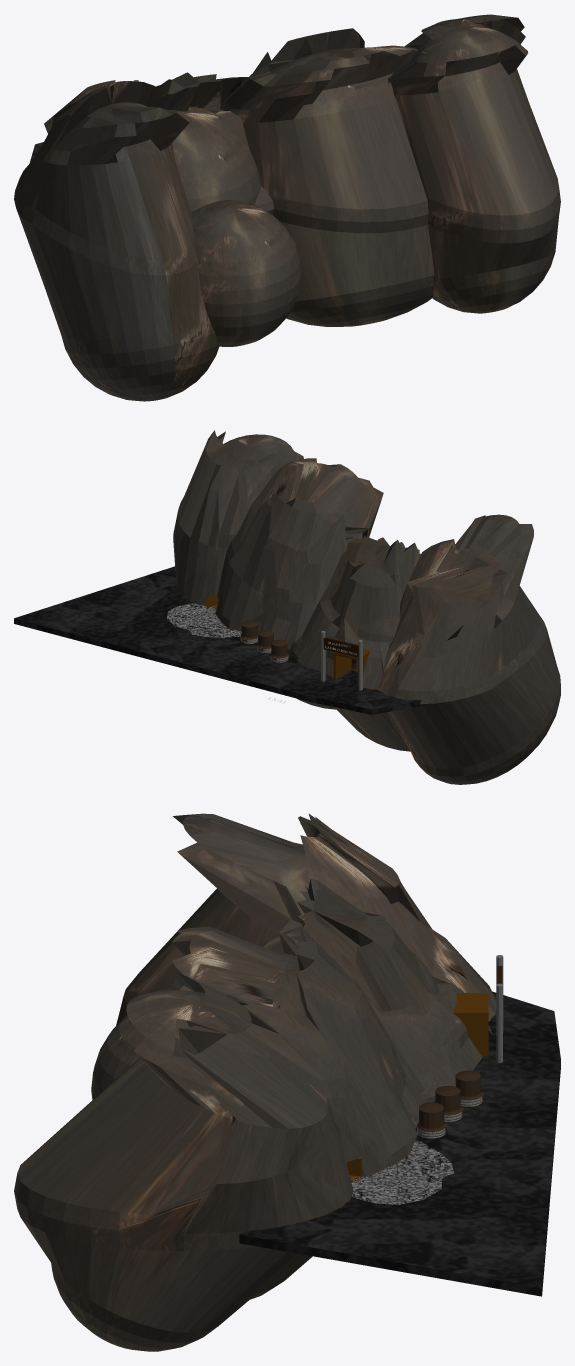
Rendered from Mine.glb.
The picture shows the model from 3 angles, top to bottom: view 1: azimuth 30°, elevation 25°; view 2: azimuth 150°, elevation 25°; view 3: azimuth 270°, elevation 25°; orthographic projection. The views are drawn at different scales.
Visible parts, largest first — view 1: Rocks; view 2: Rocks, Mine Ground, Smelter, Sign, Shaft; view 3: Rocks, Mine Ground, Smelter, Shaft, Sign.
Part boxes in pixels (x1,y1,x2,y2): Rocks: [14, 14, 560, 401]; Rocks: [173, 430, 560, 784]; Mine Ground: [14, 566, 422, 714]; Smelter: [240, 621, 288, 662]; Sign: [321, 631, 362, 690]; Shaft: [333, 649, 369, 685]; Rocks: [14, 813, 496, 1351]; Mine Ground: [239, 991, 560, 1296]; Smelter: [417, 1070, 483, 1138]; Shaft: [453, 993, 488, 1056]; Sign: [496, 955, 503, 1062].
Size of the model in its own units: 49.59 by 28.38 by 34.73.
10 materials, 4 textured.
